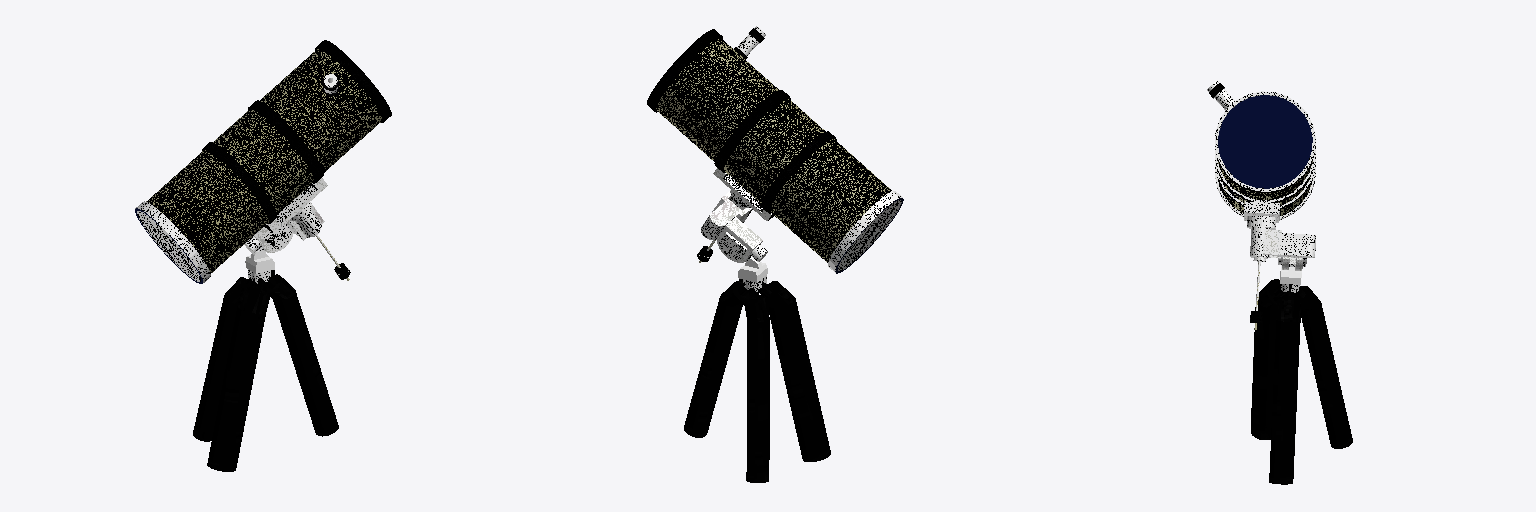
3 renders of one model, left to right at view 1: azimuth 30°, elevation 25°; view 2: azimuth 150°, elevation 25°; view 3: azimuth 270°, elevation 25°, orthographic.
Parts seen in each view (by area): view 1: 62_62, 52_52, 112_112, 76_76, 68_68, 80_80, 53_53, 63_63, 69_69, 54_54, 60_60, 64_64 (+2 smaller); view 2: 52_52, 62_62, 112_112, 80_80, 68_68, 76_76, 63_63, 53_53, 69_69, 47_47, 64_64, 54_54 (+3 smaller); view 3: 94_94, 76_76, 80_80, 112_112, 29_29, 50_50, 47_47, 124_124.
Boxes of the visible parts, box(x1,y1,x2,y2) form: 62_62: box(147, 150, 268, 272); 52_52: box(260, 49, 381, 172); 112_112: box(207, 287, 269, 471); 76_76: box(263, 274, 338, 436); 68_68: box(214, 109, 314, 214); 80_80: box(193, 277, 246, 441); 53_53: box(261, 49, 381, 170); 63_63: box(146, 150, 268, 272); 69_69: box(213, 110, 313, 211); 54_54: box(317, 40, 391, 121); 60_60: box(135, 201, 210, 282); 64_64: box(248, 100, 323, 182); 52_52: box(656, 38, 778, 161); 62_62: box(770, 139, 891, 262); 112_112: box(760, 281, 830, 461); 80_80: box(744, 298, 769, 482); 68_68: box(724, 98, 825, 203); 76_76: box(684, 281, 749, 437); 63_63: box(771, 139, 889, 261); 53_53: box(656, 39, 777, 159); 69_69: box(724, 99, 823, 202); 47_47: box(710, 191, 762, 262); 64_64: box(714, 90, 789, 171); 54_54: box(647, 29, 721, 110); 94_94: box(1218, 95, 1312, 188); 76_76: box(1269, 300, 1300, 484); 80_80: box(1295, 286, 1352, 448); 112_112: box(1251, 279, 1284, 439); 29_29: box(1215, 91, 1315, 191); 50_50: box(1281, 233, 1315, 256); 47_47: box(1263, 229, 1312, 270); 124_124: box(1215, 149, 1315, 213).
Bounding box in the file's own units: 74.1 × 120 × 40.
9 materials, 4 textured.